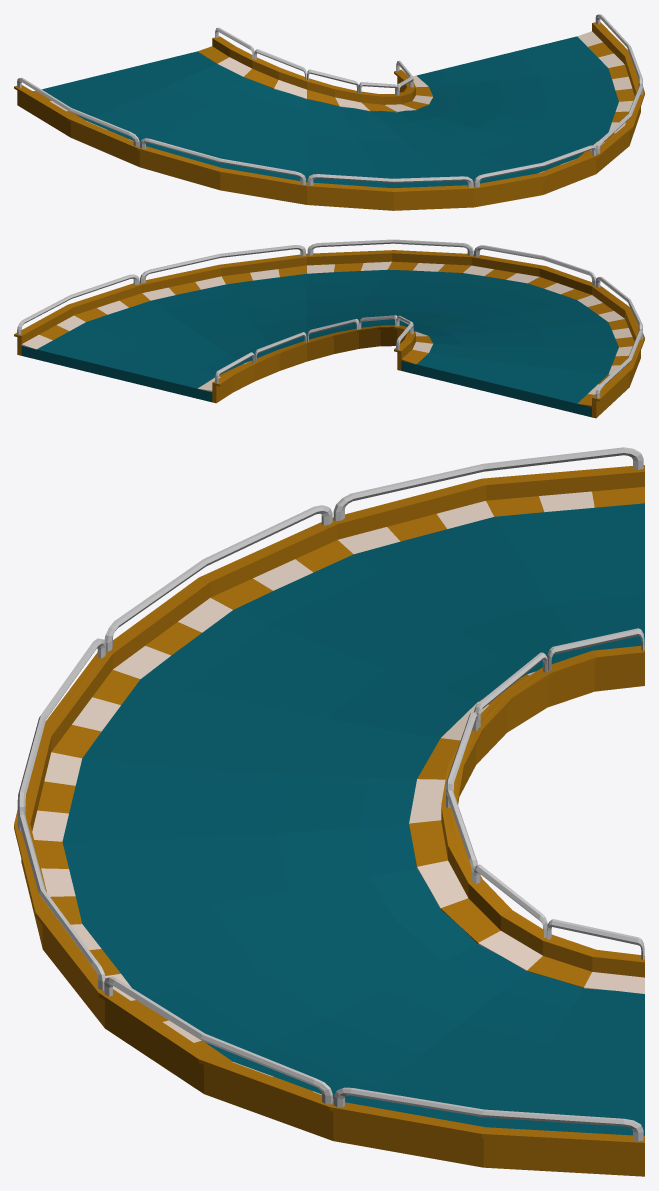
Rendered from spiralUp-Right-180.FBX.
3 renders of one model, top to bottom at view 1: azimuth 30°, elevation 25°; view 2: azimuth 150°, elevation 25°; view 3: azimuth 270°, elevation 25°, orthographic. The views are drawn at different scales.
Parts seen in each view (by area): view 1: spiralUp-Right-180, wall_l, wall_r, curbs_r, curbs_l; view 2: spiralUp-Right-180, wall_l, curbs_l, wall_r, curbs_r; view 3: spiralUp-Right-180, wall_l, curbs_l, wall_r, curbs_r.
Boxes of the visible parts, x1,y1,x2,y2 form: spiralUp-Right-180: (42,36,618,188); wall_l: (14,14,644,210); wall_r: (212,27,415,104); curbs_r: (198,46,433,112); curbs_l: (33,31,634,173); spiralUp-Right-180: (21,269,618,417); wall_l: (14,239,644,418); curbs_l: (21,261,634,407); wall_r: (212,315,415,403); curbs_r: (198,331,432,391); spiralUp-Right-180: (62,503,644,1135); wall_l: (14,447,644,1176); curbs_l: (32,487,644,1099); wall_r: (441,628,644,977); curbs_r: (409,671,644,993).
Size of what is drawn, in the model's own units: 589 by 104 by 294.
